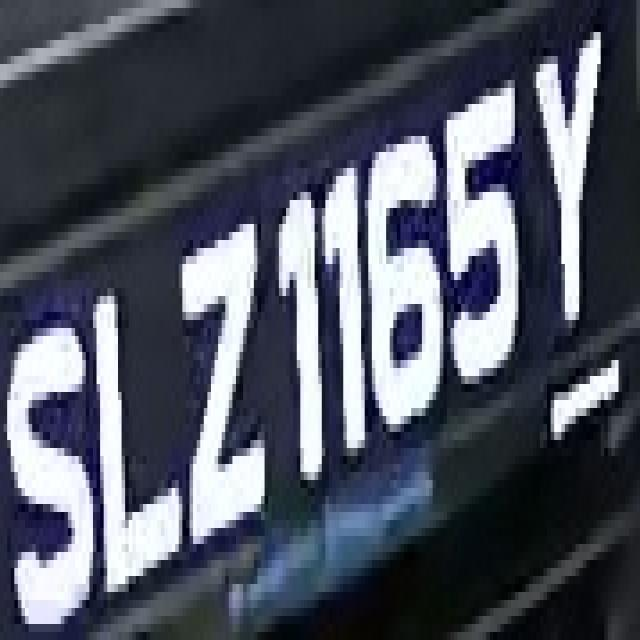1: (318, 128, 372, 472), (279, 144, 325, 528)
5: (444, 64, 526, 400)
6: (365, 120, 454, 448)
L: (89, 256, 186, 600)
S: (0, 272, 93, 632)
Y: (522, 24, 619, 336)
Z: (172, 200, 272, 560)
